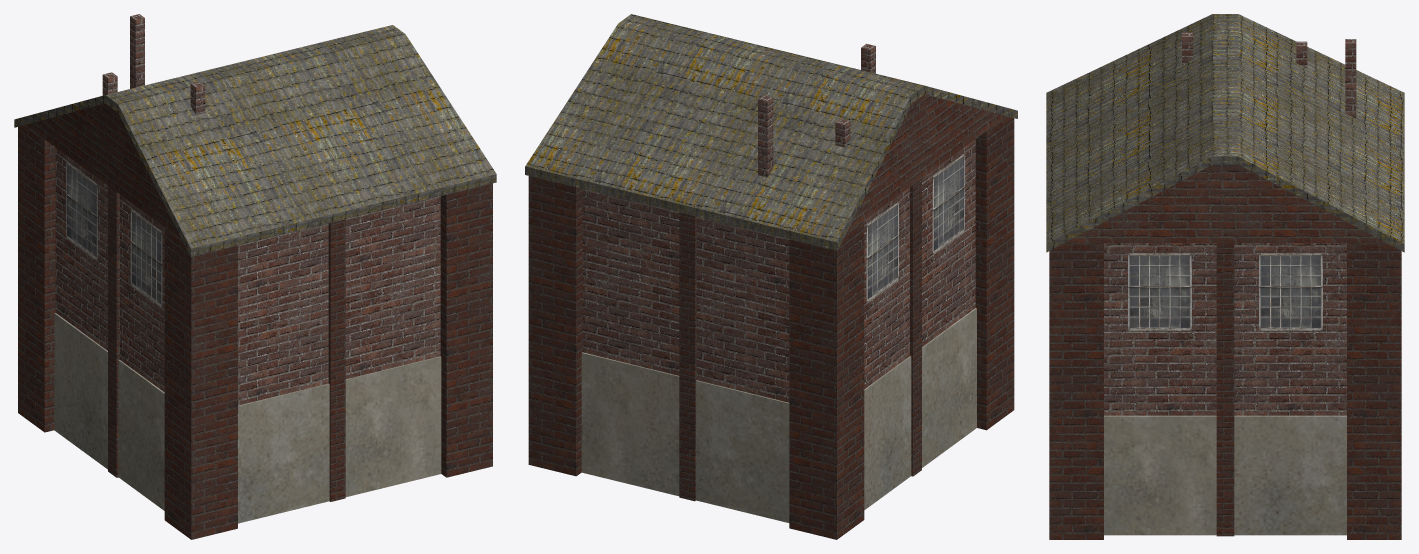
Rendered from small building.fbx.
3 renders of one model, left to right at view 1: azimuth 30°, elevation 25°; view 2: azimuth 150°, elevation 25°; view 3: azimuth 270°, elevation 25°, orthographic. The views are drawn at different scales.
Visible parts, largest first — view 1: Cube.139, Cube.001, Cube, Cube.017, Cube.142, Cube.007, Cube.013, Plane.002, Plane.001, Cube.143; view 2: Cube.139, Cube.001, Cube, Cube.017, Cube.142, Cube.008, Cube.013, Plane.001, Plane.002, Cube.143; view 3: Cube.139, Cube.001, Cube, Cube.017, Cube.142, Cube.012, Plane.003, Plane.004, Cube.143.
Boxes of the visible parts, x1=… form: Cube.139: x1=14, y1=25, x2=496, y2=256; Cube.001: x1=18, y1=125, x2=492, y2=539; Cube: x1=55, y1=148, x2=440, y2=405; Cube.017: x1=54, y1=313, x2=441, y2=523; Cube.142: x1=25, y1=103, x2=181, y2=239; Cube.007: x1=328, y1=219, x2=345, y2=501; Cube.013: x1=108, y1=186, x2=119, y2=477; Plane.002: x1=130, y1=209, x2=162, y2=307; Plane.001: x1=66, y1=161, x2=97, y2=260; Cube.143: x1=130, y1=14, x2=144, y2=88; Cube.139: x1=525, y1=14, x2=1017, y2=250; Cube.001: x1=528, y1=116, x2=1014, y2=539; Cube: x1=582, y1=139, x2=975, y2=402; Cube.017: x1=581, y1=308, x2=976, y2=522; Cube.142: x1=846, y1=94, x2=1006, y2=233; Cube.008: x1=679, y1=212, x2=696, y2=501; Cube.013: x1=910, y1=178, x2=921, y2=476; Plane.001: x1=866, y1=201, x2=898, y2=302; Plane.002: x1=932, y1=153, x2=964, y2=254; Cube.143: x1=758, y1=95, x2=773, y2=177; Cube.139: x1=1046, y1=14, x2=1404, y2=252; Cube.001: x1=1049, y1=243, x2=1401, y2=539; Cube: x1=1104, y1=243, x2=1346, y2=415; Cube.017: x1=1104, y1=415, x2=1346, y2=535; Cube.142: x1=1065, y1=164, x2=1385, y2=242; Cube.012: x1=1216, y1=243, x2=1234, y2=536; Plane.003: x1=1259, y1=253, x2=1322, y2=330; Plane.004: x1=1128, y1=253, x2=1191, y2=330; Cube.143: x1=1345, y1=39, x2=1356, y2=118.
Size of the model in its own units: 1749 by 2137 by 1749.
